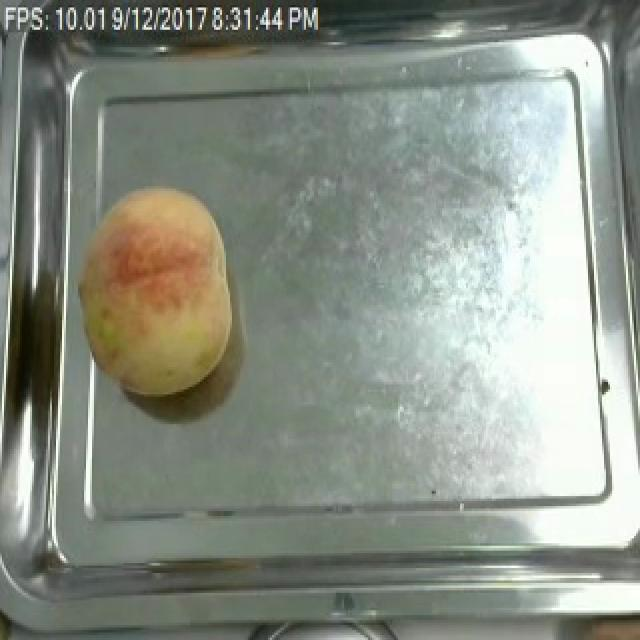Fruit: (64, 176, 240, 404)
